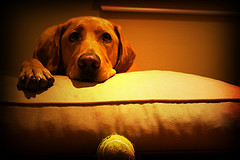tennis ball: (92, 131, 140, 160)
